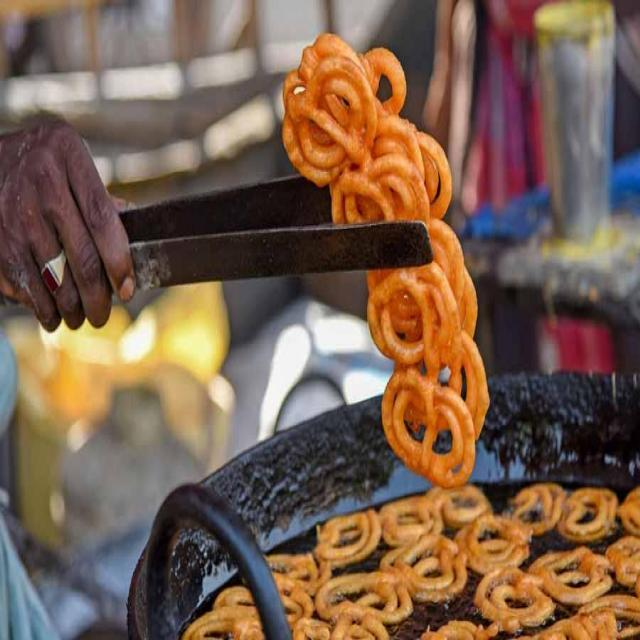jalebi: (286, 15, 484, 488), (189, 492, 635, 638)
